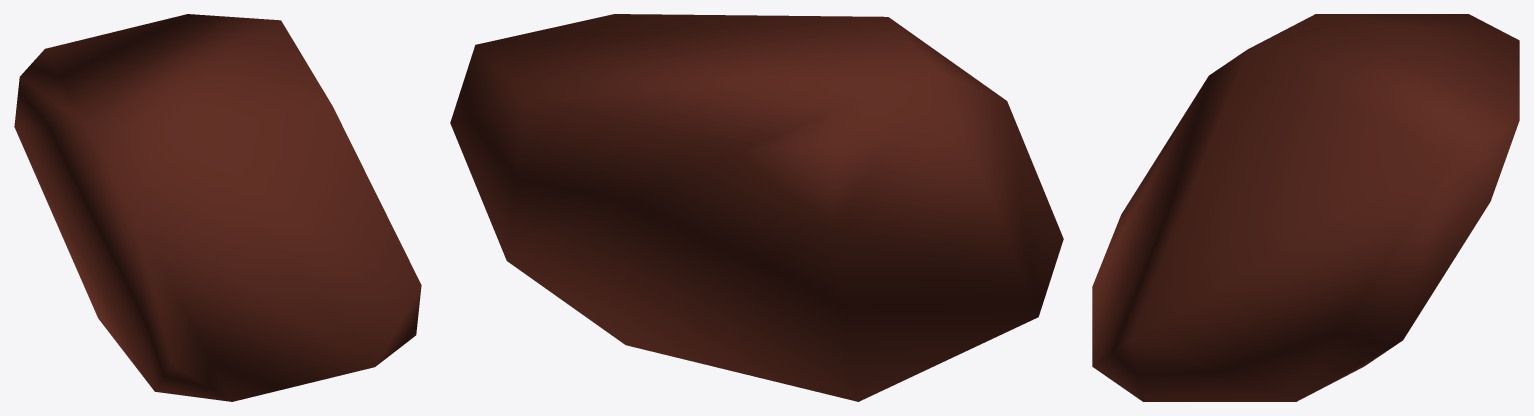
The picture shows the model from 3 angles, left to right: view 1: azimuth 30°, elevation 25°; view 2: azimuth 150°, elevation 25°; view 3: azimuth 270°, elevation 25°; orthographic projection. The views are drawn at different scales.
Parts seen in each view (by area): view 1: SM_BO_OreNode_Clay_LOD0; view 2: SM_BO_OreNode_Clay_LOD0; view 3: SM_BO_OreNode_Clay_LOD0.
Part boxes in pixels (x1,y1,x2,y2): SM_BO_OreNode_Clay_LOD0: [14, 14, 421, 401]; SM_BO_OreNode_Clay_LOD0: [450, 14, 1063, 401]; SM_BO_OreNode_Clay_LOD0: [1092, 14, 1519, 401].
Bounding box in the file's own units: 0.1662 × 0.1351 × 0.2123.
